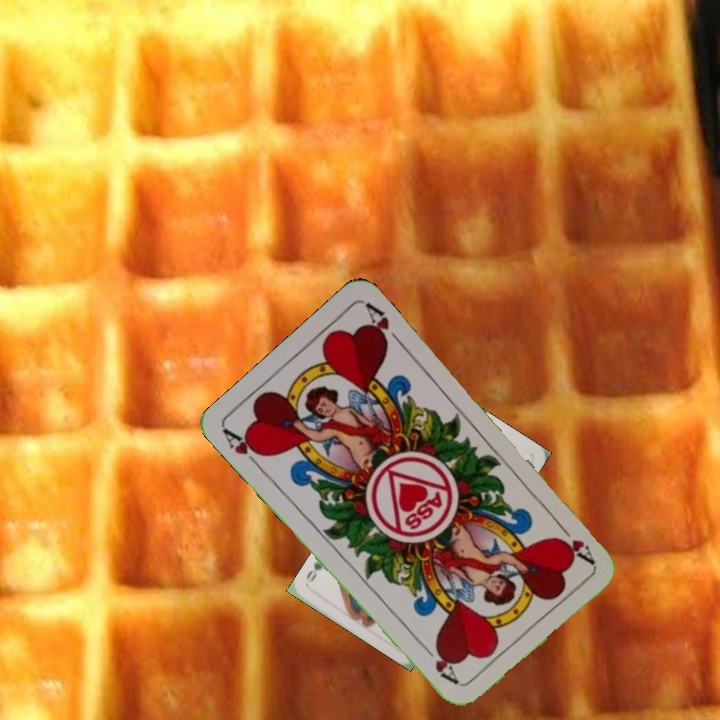HA: (219, 425, 268, 473), (552, 517, 597, 567)
